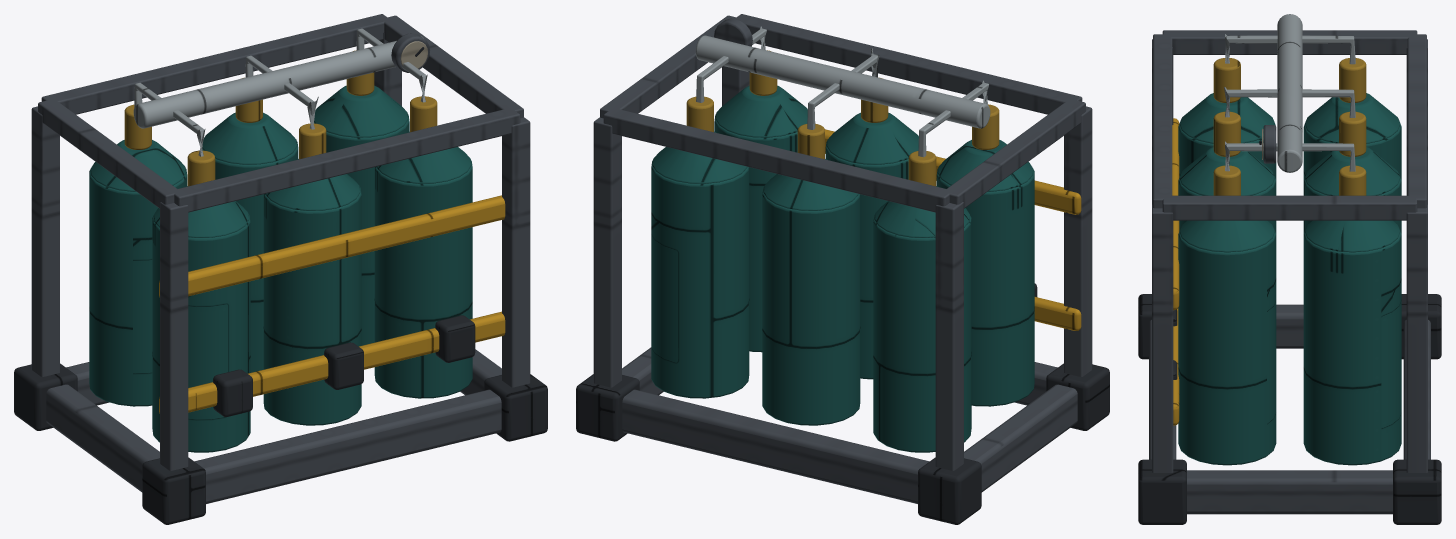
Rendered from cargo-gas-bottle-cluster_lod0.glb.
3 renders of one model, left to right at view 1: azimuth 30°, elevation 25°; view 2: azimuth 150°, elevation 25°; view 3: azimuth 270°, elevation 25°, orthographic.
Parts seen in each view (by area): view 1: LOD0_Hull, LOD0_Mechanical, LOD0_Armor, LOD0_Warning, LOD0_BrushedMetal, LOD0_Livery; view 2: LOD0_Hull, LOD0_Mechanical, LOD0_BrushedMetal, LOD0_Armor, LOD0_Livery, LOD0_Warning; view 3: LOD0_Hull, LOD0_Mechanical, LOD0_Armor, LOD0_BrushedMetal, LOD0_Livery, LOD0_Warning.
Boxes of the visible parts, box(x1,y1,x2,y2) form: LOD0_Hull: box(89, 85, 472, 452); LOD0_Mechanical: box(31, 14, 530, 503); LOD0_Armor: box(14, 315, 547, 524); LOD0_Warning: box(159, 195, 505, 413); LOD0_BrushedMetal: box(133, 28, 427, 156); LOD0_Livery: box(124, 50, 437, 186); LOD0_Hull: box(651, 85, 1034, 452); LOD0_Mechanical: box(593, 14, 1092, 503); LOD0_BrushedMetal: box(695, 26, 990, 157); LOD0_Armor: box(576, 283, 1109, 524); LOD0_Livery: box(686, 50, 999, 186); LOD0_Warning: box(825, 129, 1081, 330); LOD0_Hull: box(1178, 93, 1401, 465); LOD0_Mechanical: box(1149, 30, 1430, 514); LOD0_Armor: box(1138, 294, 1441, 524); LOD0_BrushedMetal: box(1224, 14, 1355, 172); LOD0_Livery: box(1213, 58, 1366, 195); LOD0_Warning: box(1172, 118, 1179, 425).
Bounding box in the file's own units: 2.25 × 2.05 × 1.55.
Materials: 8 (8 with a texture image).
